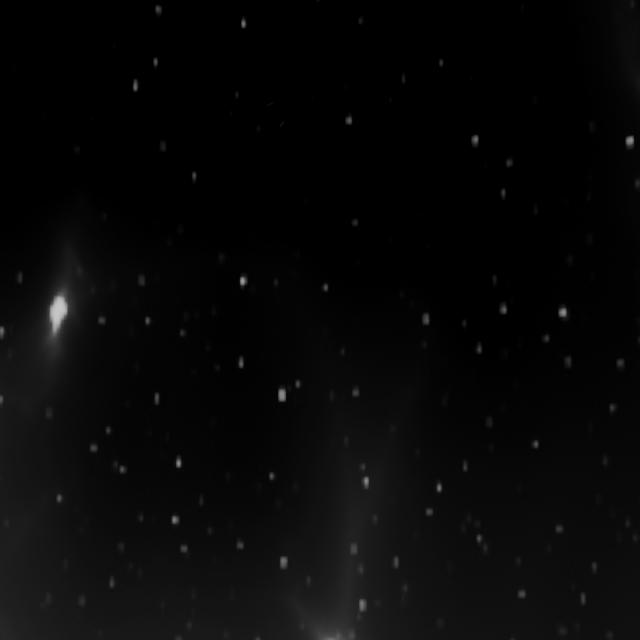large_debris: (262, 90, 292, 158)
